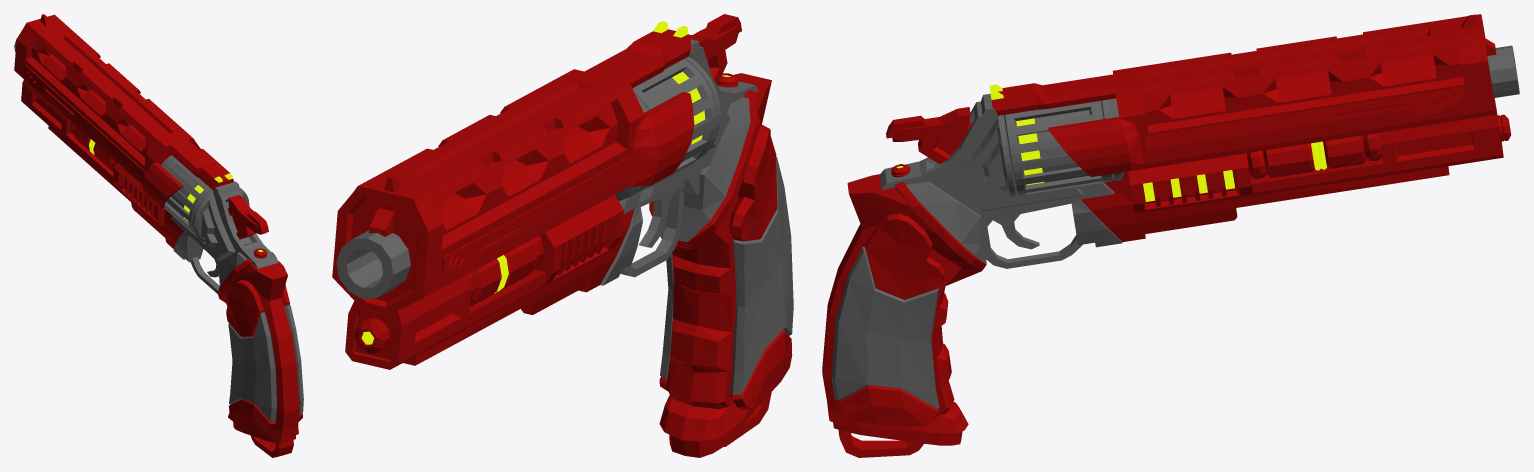
File: remake_335.glb
3 views of the same model, side by side, from view 1: azimuth 30°, elevation 25°; view 2: azimuth 150°, elevation 25°; view 3: azimuth 270°, elevation 25° (orthographic). The views are drawn at different scales.
Visible parts, largest first — view 1: remake_335; view 2: remake_335; view 3: remake_335.
Boxes of the visible parts, x1,y1,x2,y2 form: remake_335: [14, 14, 303, 457]; remake_335: [332, 14, 793, 457]; remake_335: [822, 14, 1519, 457].
Bounding box in the file's own units: 0.0855 × 0.3347 × 0.5019.
